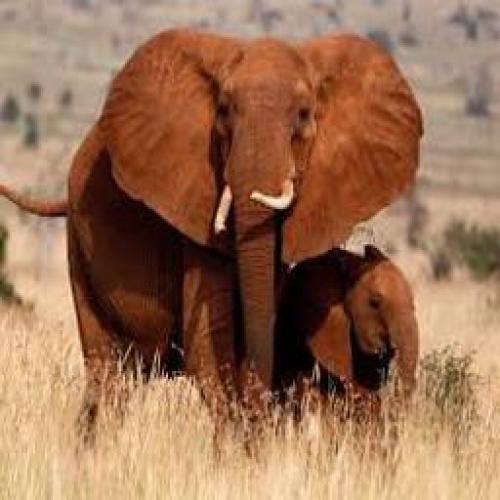african_elephant-endangered: (5, 30, 426, 462), (273, 246, 419, 425)
